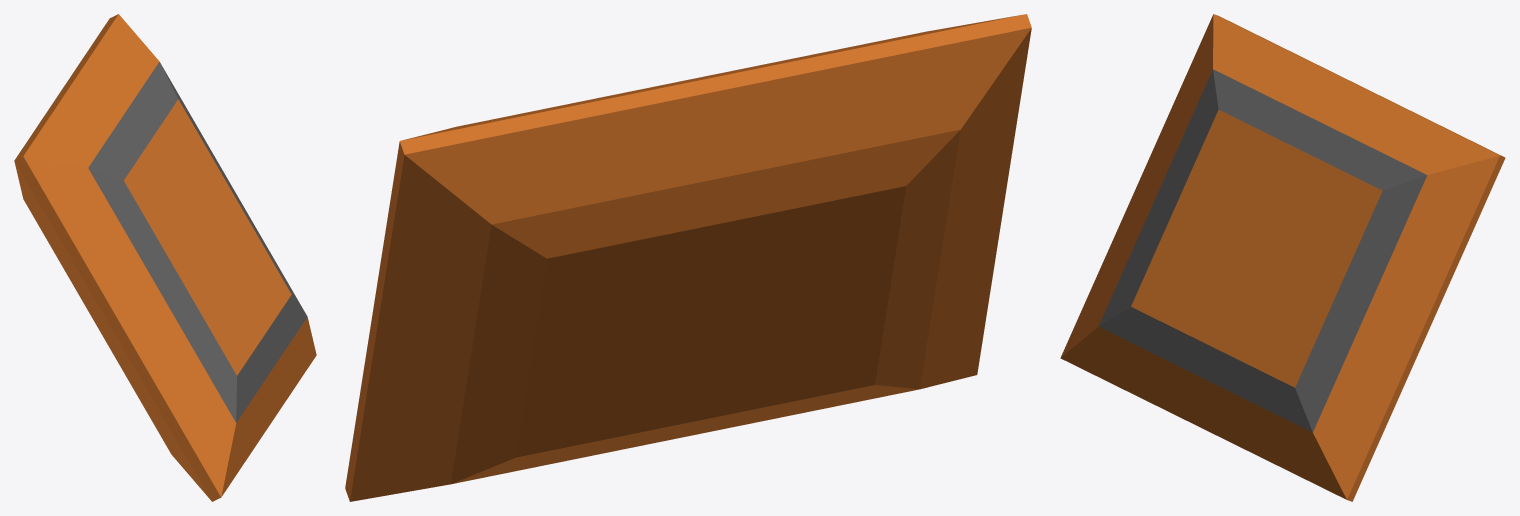
Rendered from Pillow_Material.fbx.
The picture shows the model from 3 angles, left to right: view 1: azimuth 30°, elevation 25°; view 2: azimuth 150°, elevation 25°; view 3: azimuth 270°, elevation 25°; orthographic projection. The views are drawn at different scales.
Visible parts, largest first — view 1: Pillow.001; view 2: Pillow.001; view 3: Pillow.001.
Boxes of the visible parts, x1=… form: Pillow.001: x1=14, y1=14, x2=316, y2=501; Pillow.001: x1=345, y1=14, x2=1031, y2=501; Pillow.001: x1=1060, y1=14, x2=1505, y2=501.
Size of the model in its own units: 0.3226 by 0.287 by 0.3577.
